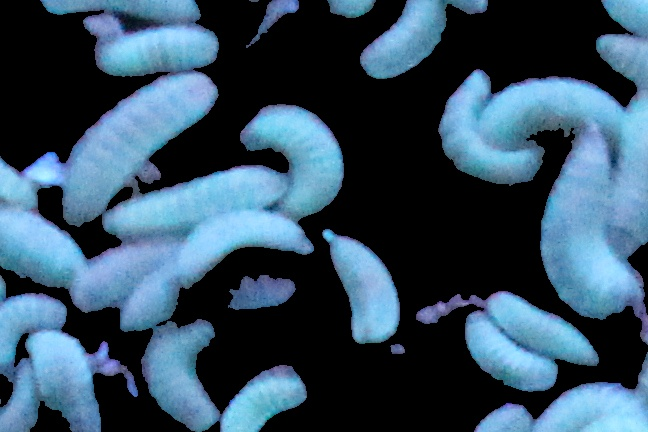larvae: (52, 61, 221, 231), (545, 131, 634, 316), (246, 95, 365, 230), (441, 65, 548, 185), (323, 221, 409, 356), (175, 197, 313, 276), (483, 286, 608, 372), (485, 63, 619, 141), (104, 170, 286, 227), (63, 244, 194, 314), (449, 314, 556, 392), (145, 323, 221, 432), (33, 327, 107, 432), (364, 1, 442, 81), (205, 367, 301, 432), (1, 217, 80, 291), (99, 272, 199, 329), (90, 29, 221, 69), (24, 1, 206, 28), (1, 290, 66, 363), (1, 359, 46, 432)
